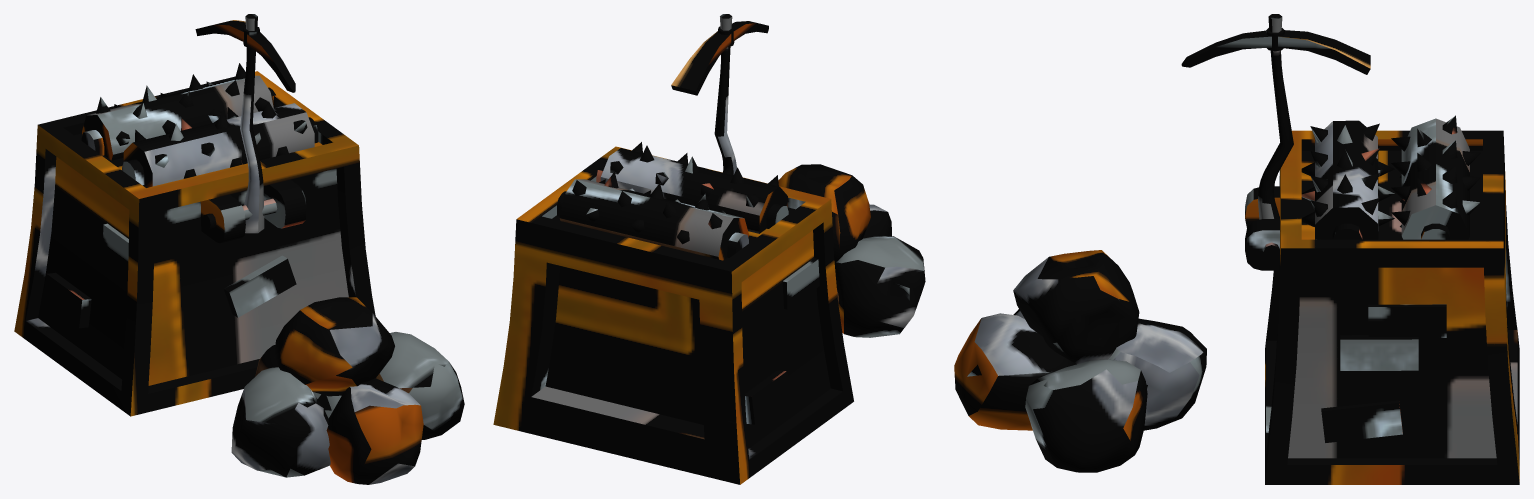
Rendered from mine 1.fbx.
3 renders of one model, left to right at view 1: azimuth 30°, elevation 25°; view 2: azimuth 150°, elevation 25°; view 3: azimuth 270°, elevation 25°, orthographic. The views are drawn at different scales.
Visible parts, largest first — view 1: rockLP.001_Baked, rockLP.004_Baked, Cylinder.003_Baked, Cylinder.004_Baked, Plane.002_Baked; view 2: rockLP.001_Baked, rockLP.004_Baked, Cylinder.004_Baked, Cylinder.003_Baked, Plane.002_Baked; view 3: rockLP.001_Baked, rockLP.004_Baked, Cylinder.003_Baked, Cylinder.004_Baked, Plane.002_Baked.
Boxes of the visible parts, box(x1,y1,x2,y2) form: rockLP.001_Baked: box(14, 71, 375, 416); rockLP.004_Baked: box(231, 297, 464, 484); Cylinder.003_Baked: box(123, 96, 314, 187); Cylinder.004_Baked: box(82, 63, 273, 160); Plane.002_Baked: box(195, 14, 295, 233); rockLP.001_Baked: box(493, 146, 853, 484); rockLP.004_Baked: box(778, 164, 925, 337); Cylinder.004_Baked: box(559, 172, 748, 260); Cylinder.003_Baked: box(600, 142, 787, 233); Plane.002_Baked: box(671, 14, 768, 174); rockLP.001_Baked: box(1245, 130, 1519, 484); rockLP.004_Baked: box(954, 250, 1206, 472); Cylinder.003_Baked: box(1301, 120, 1394, 239); Cylinder.004_Baked: box(1391, 115, 1480, 239); Plane.002_Baked: box(1181, 14, 1370, 219).
Bounding box in the file's own units: 96 × 134 × 170.
Materials: 1 (1 with a texture image).
